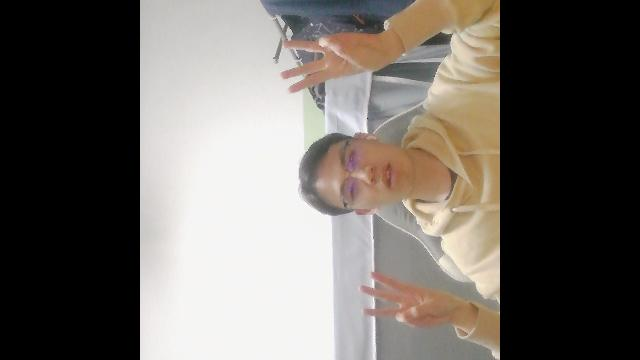three: (280, 30, 398, 96), (358, 267, 465, 328)
